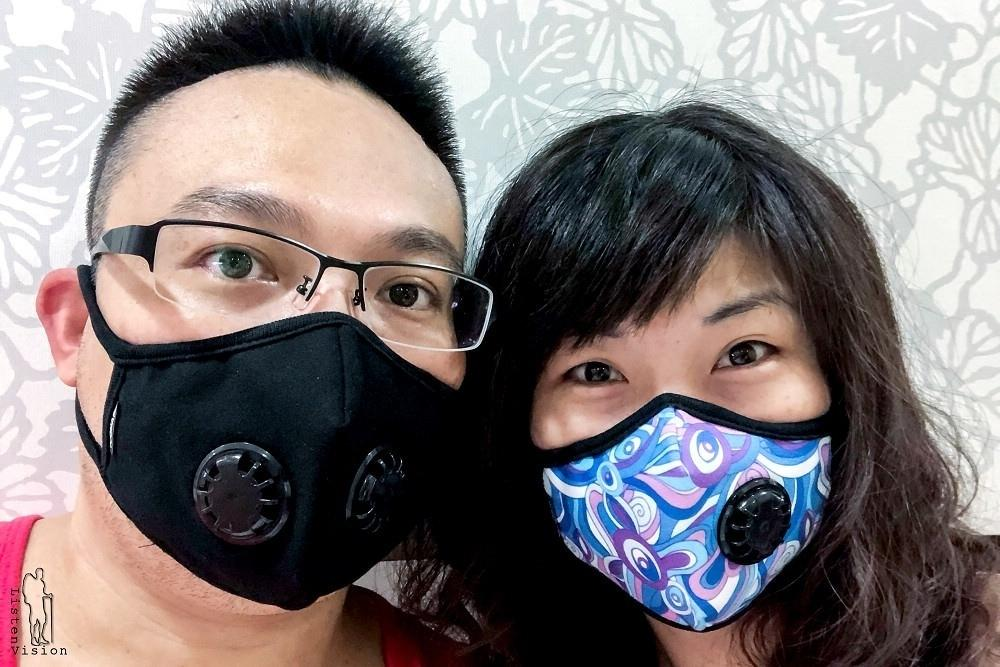mask: (71, 255, 484, 610), (538, 392, 838, 632)
